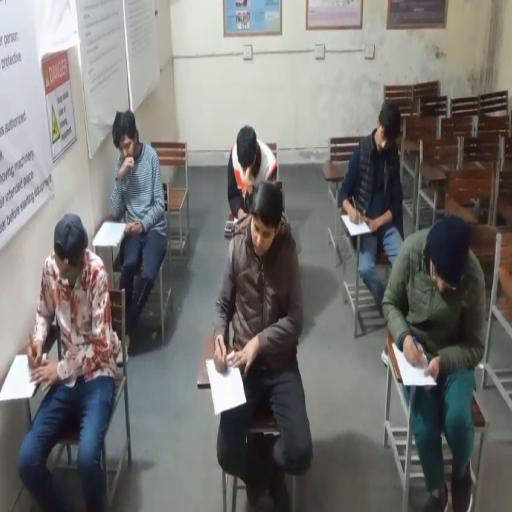paper: (206, 356, 246, 414), (391, 340, 436, 386), (0, 351, 37, 400), (340, 212, 374, 236), (93, 221, 126, 242)
